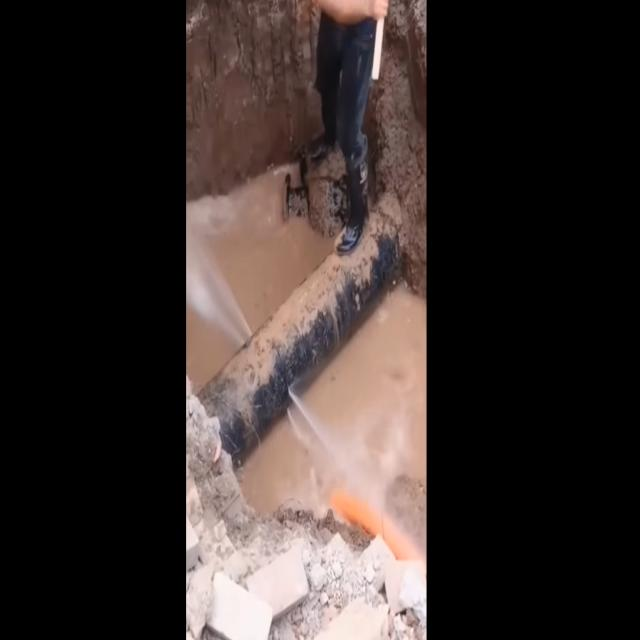leak: (288, 391, 370, 496), (186, 227, 251, 349)
